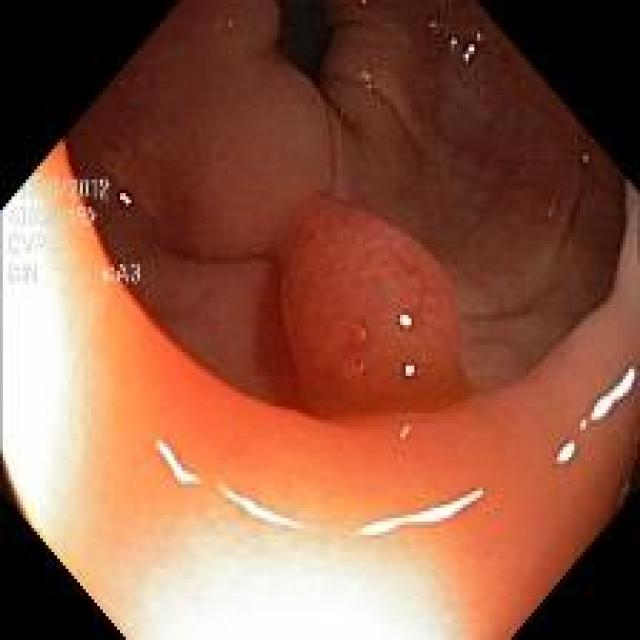Polyps: (281, 201, 471, 418)
